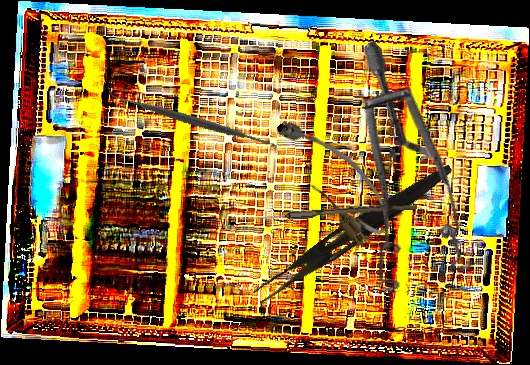Cannula: (267, 101, 401, 252)
Dressing Forceps: (251, 153, 456, 312)
Spatula Surgical: (106, 35, 280, 205)
Speculum: (254, 39, 529, 322)
Surgical Spoon: (241, 200, 418, 225)
